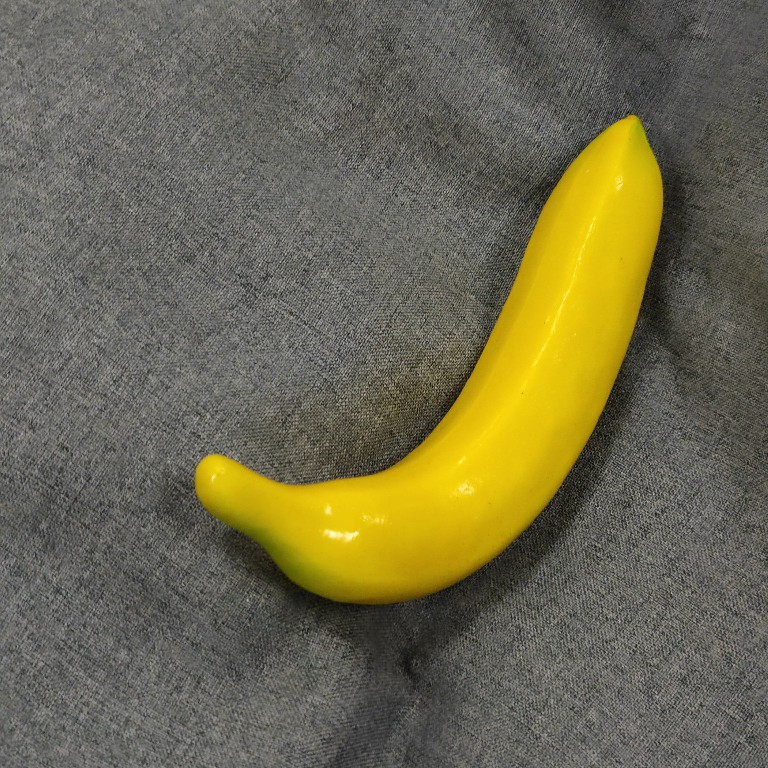fruit_banana: (186, 112, 672, 614)
